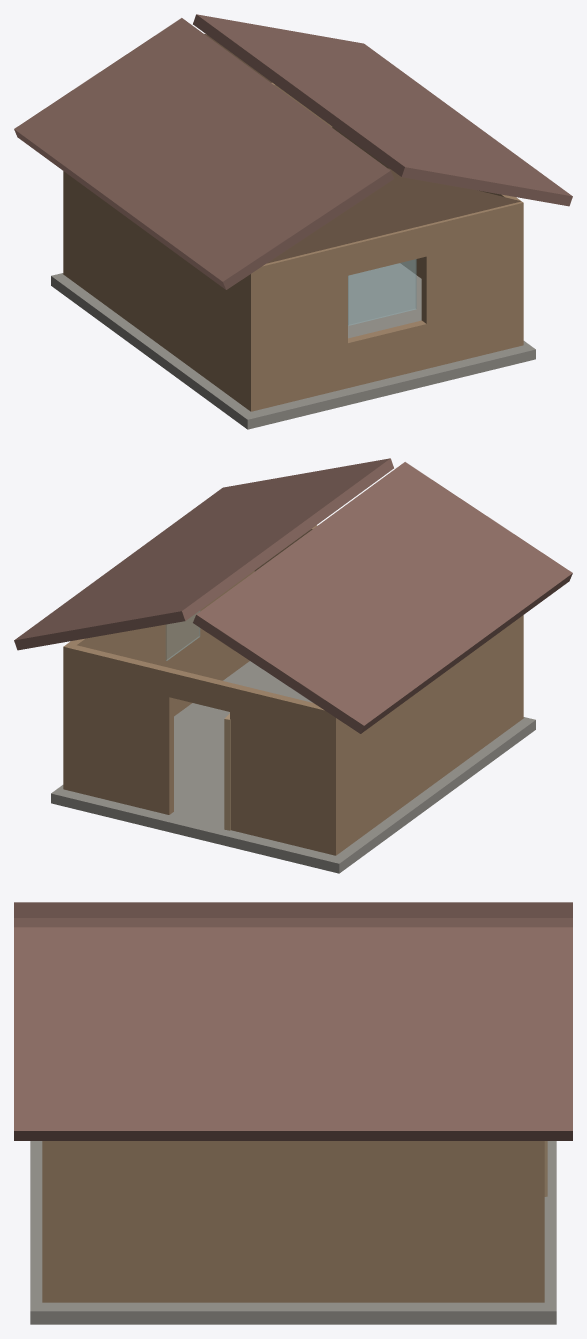
The model's file is cabana-lejos.glb.
3 renders of one model, top to bottom at view 1: azimuth 30°, elevation 25°; view 2: azimuth 150°, elevation 25°; view 3: azimuth 270°, elevation 25°, orthographic. The views are drawn at different scales.
Parts seen in each view (by area): view 1: Cuerpo, Vidrio; view 2: Cuerpo, Vidrio; view 3: Cuerpo.
Part boxes in pixels (x1,y1,x2,y2): Cuerpo: (14, 14, 572, 429); Vidrio: (348, 259, 416, 325); Cuerpo: (14, 458, 572, 873); Vidrio: (166, 611, 200, 660); Cuerpo: (14, 902, 572, 1324).
Bounding box in the file's own units: 6.68 × 4.19 × 6.9.
